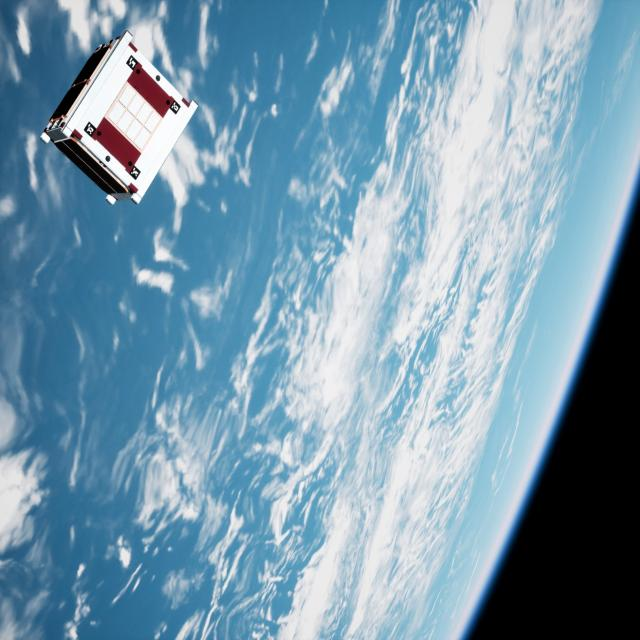satellite: (41, 30, 209, 200)
